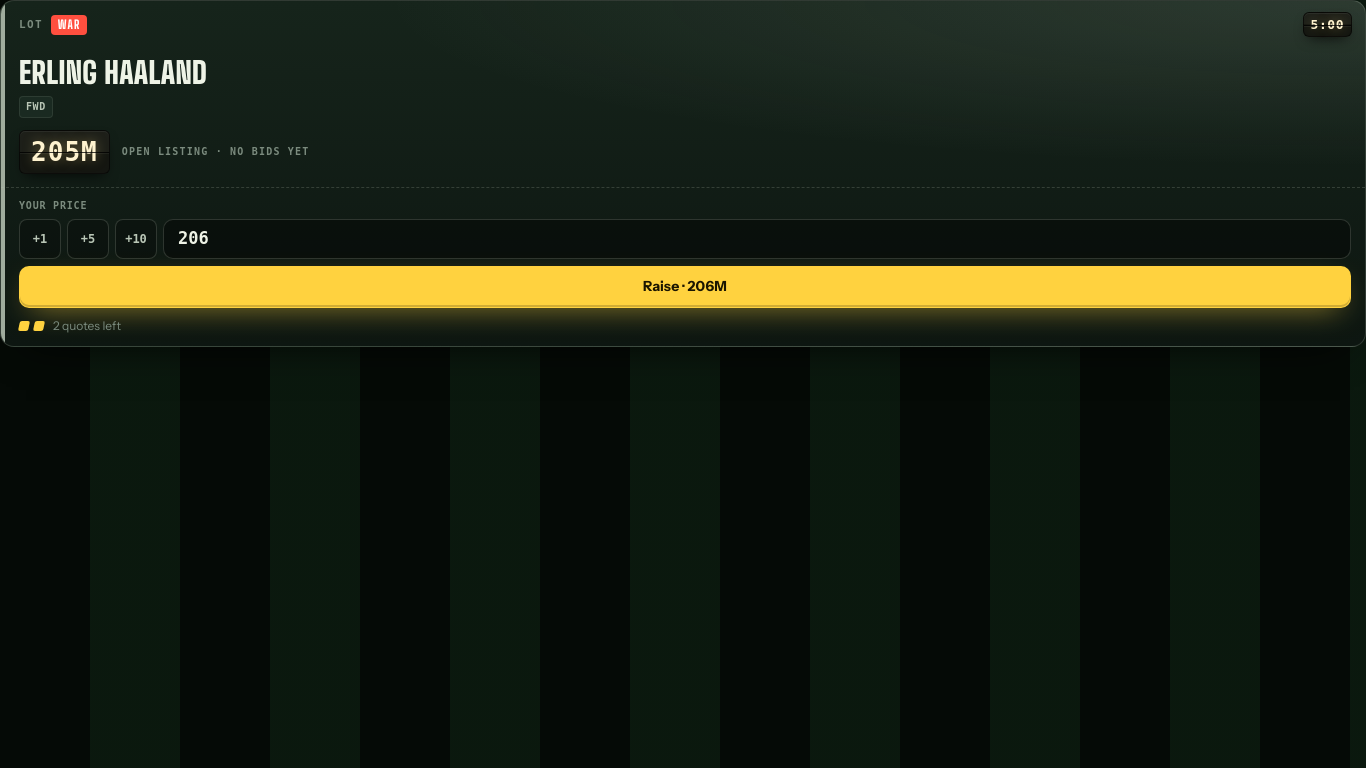
Test: the +5 step still fills the price box
Click the button "+5" at [88, 238], box 67,218 -> 109,258
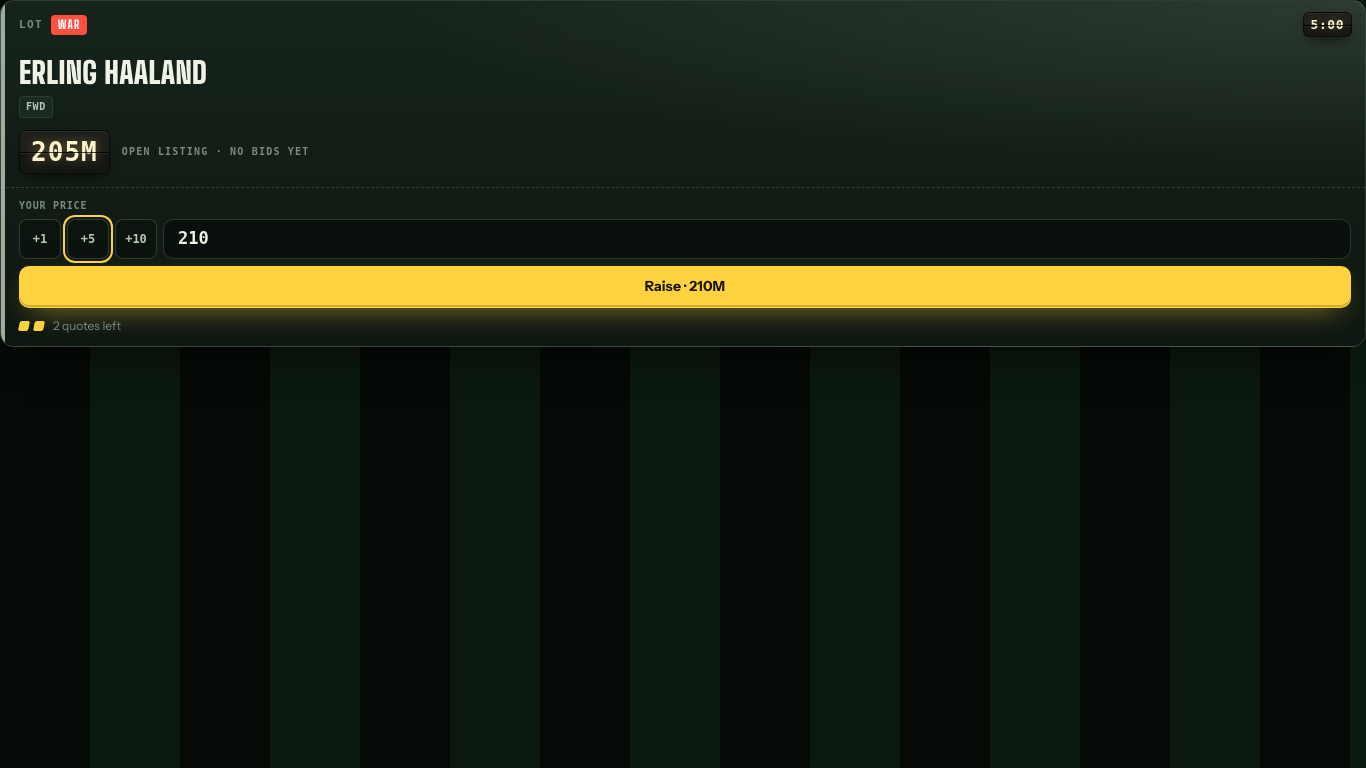
Expected: the number field named "raise amount" holds "210", 163,218 -> 1351,258
